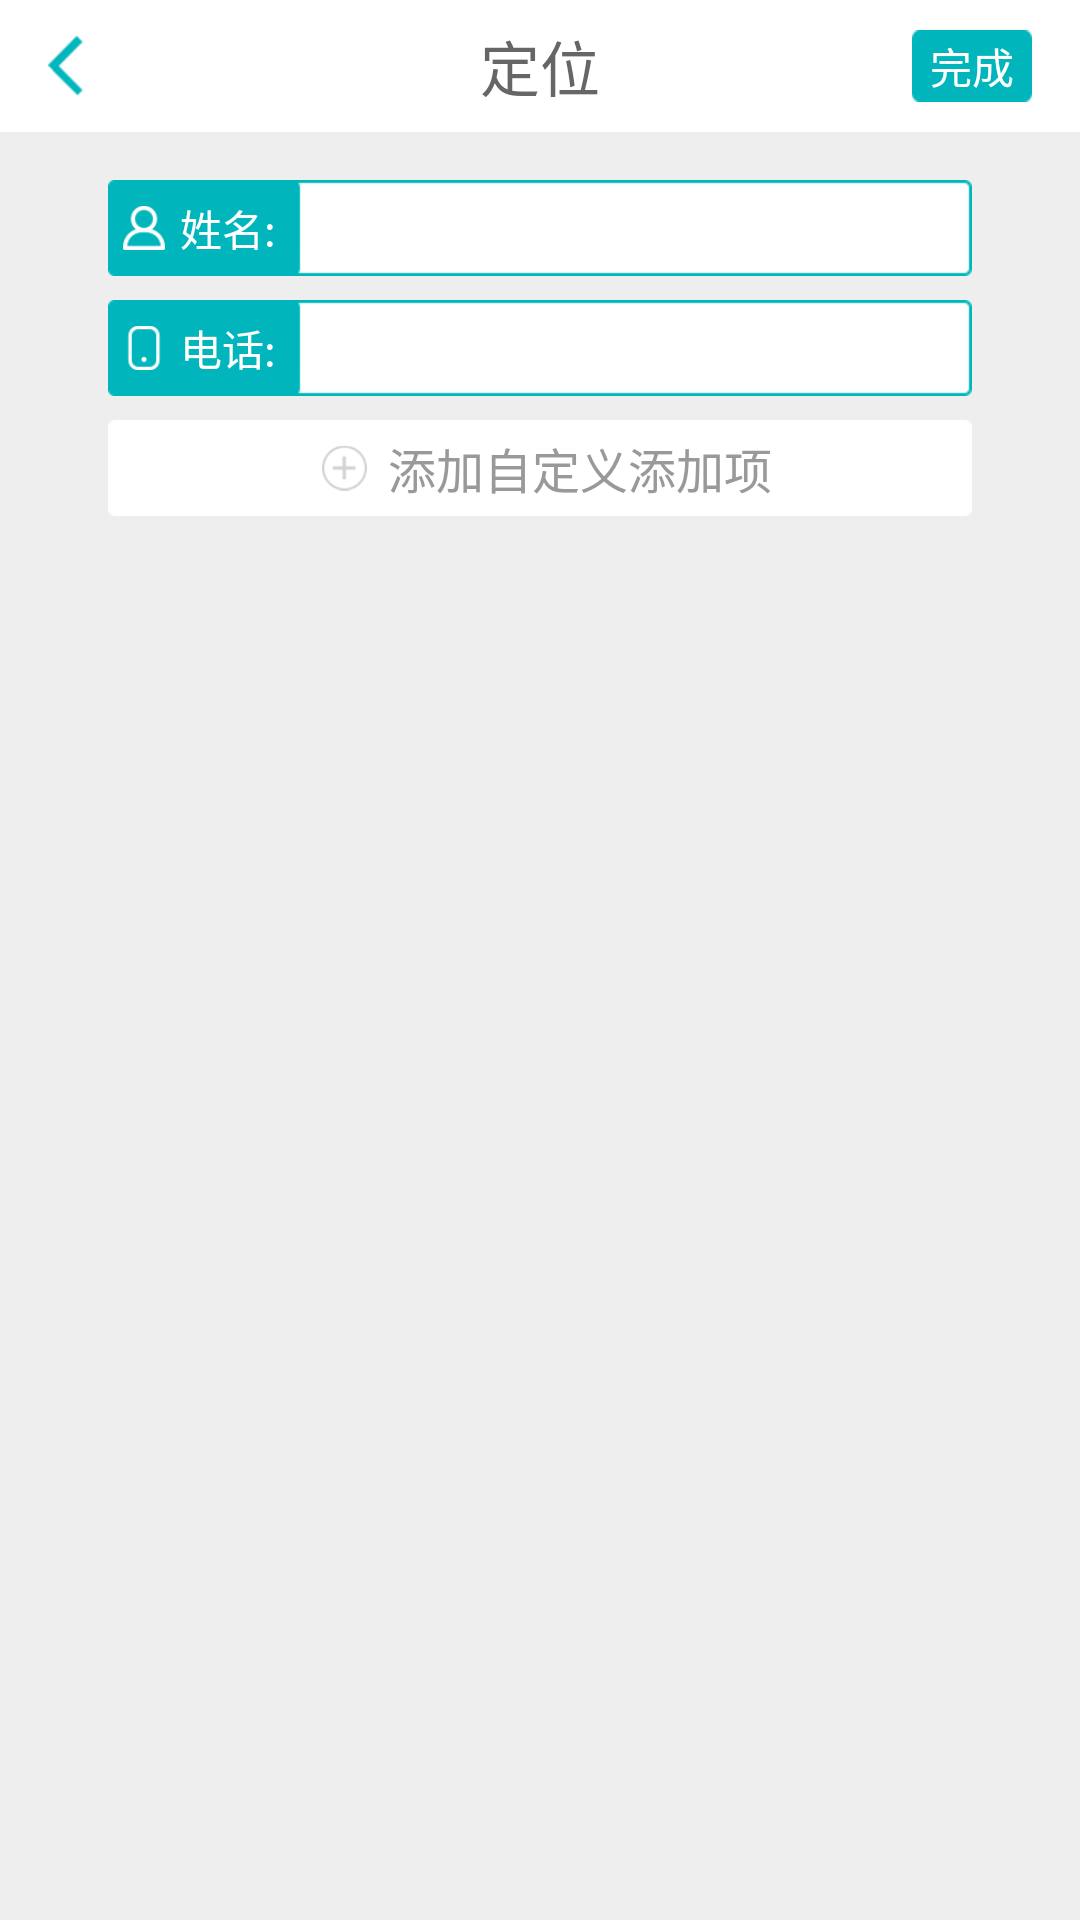

Icon bounding boxes for this 1080*1920 phone screenshot, format (x1, y1, x2, y2):
account: (123, 206, 165, 250)
location back: (48, 36, 83, 96)
